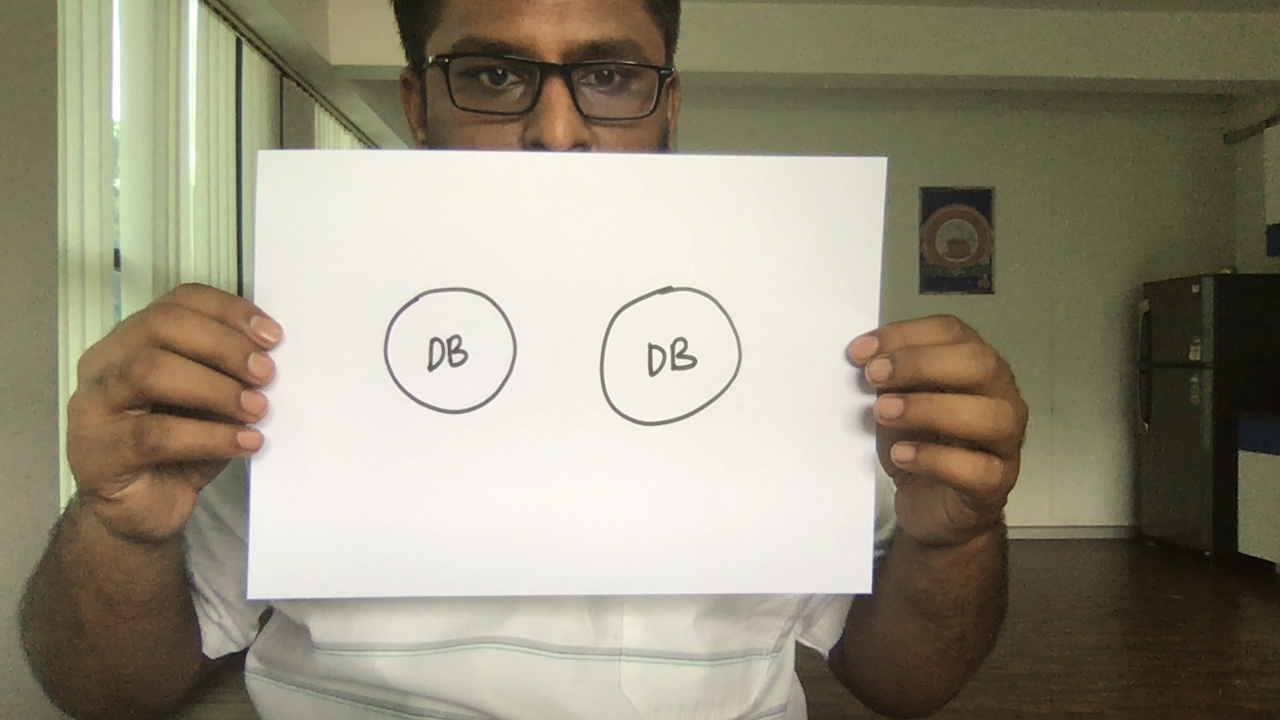db: (377, 275, 531, 432), (592, 274, 746, 431)
